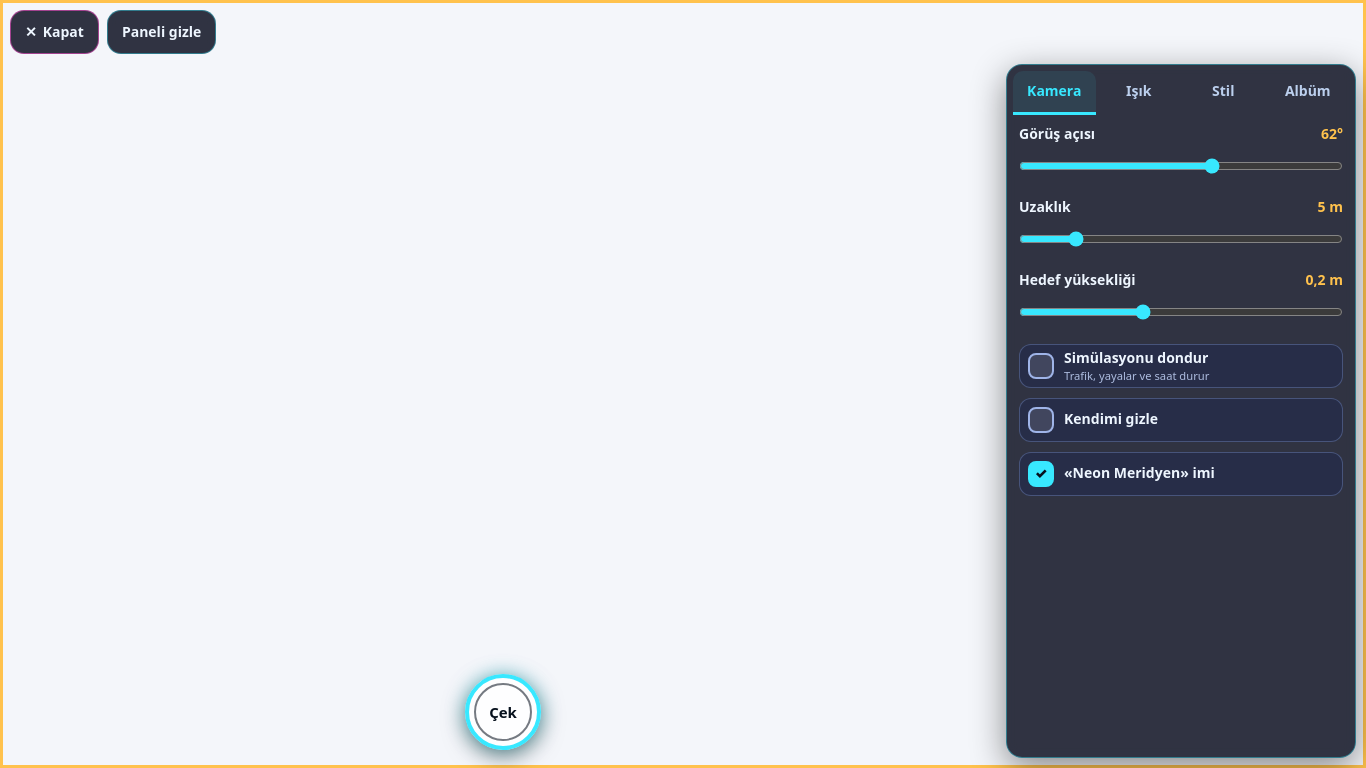
Test case: PhotoOverlay: ayarlar › Albüm sekmesi: sayaç, konu listesi (✓/○ + metin), görev satırı
What coordinates should you click on to do the following:
click the tab "Albüm"
I would click on:
 (1308, 93)
Its box is [1266,71,1349,115].
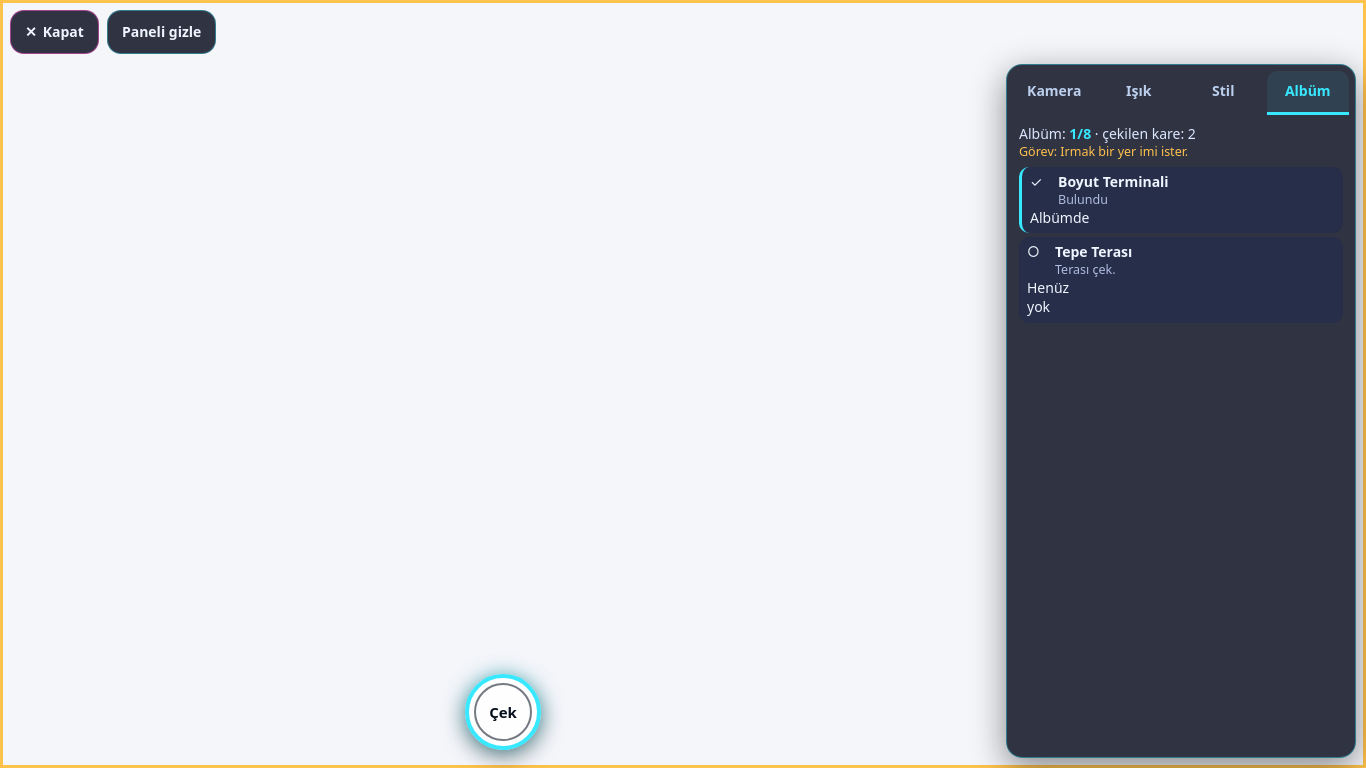
Expected: the element with test id "photo-album" shows "1/8", [1019,125,1343,323]
Expected: the element with test id "photo-album" shows "Görev: Irmak", [1019,125,1343,323]
Expected: the number of list items is 2, [1019,167,1343,234]; [1019,237,1343,323]
